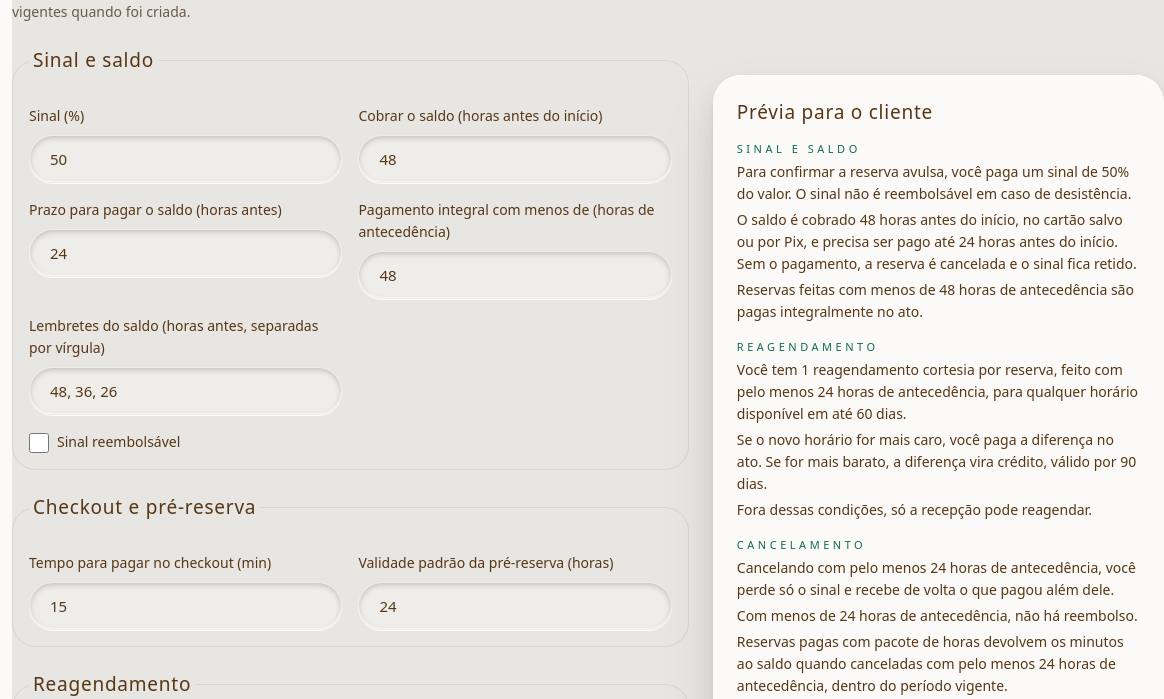
Test: PoliciesPanel (NUC-176) › saves every value and reports the new version
Replace the text in the number field labelled "Sinal (%)" with "30": (186, 159) 29,135 -> 342,183
(page scrolled)
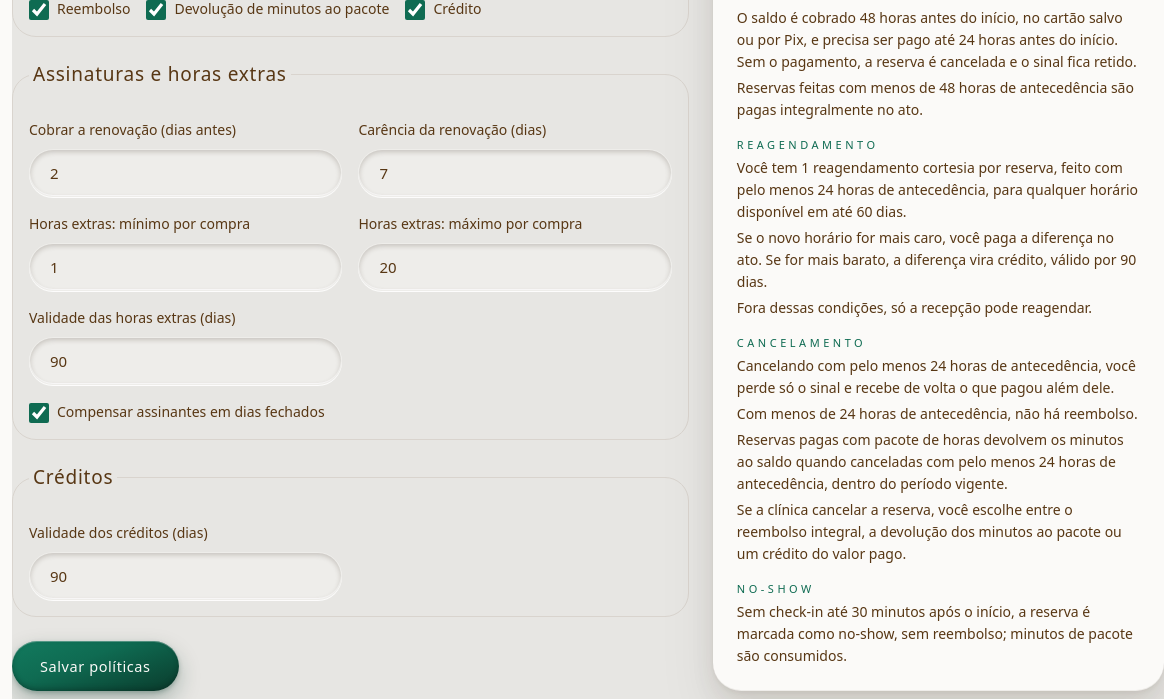
Click the button "Salvar políticas": (95, 666) 12,641 -> 179,691
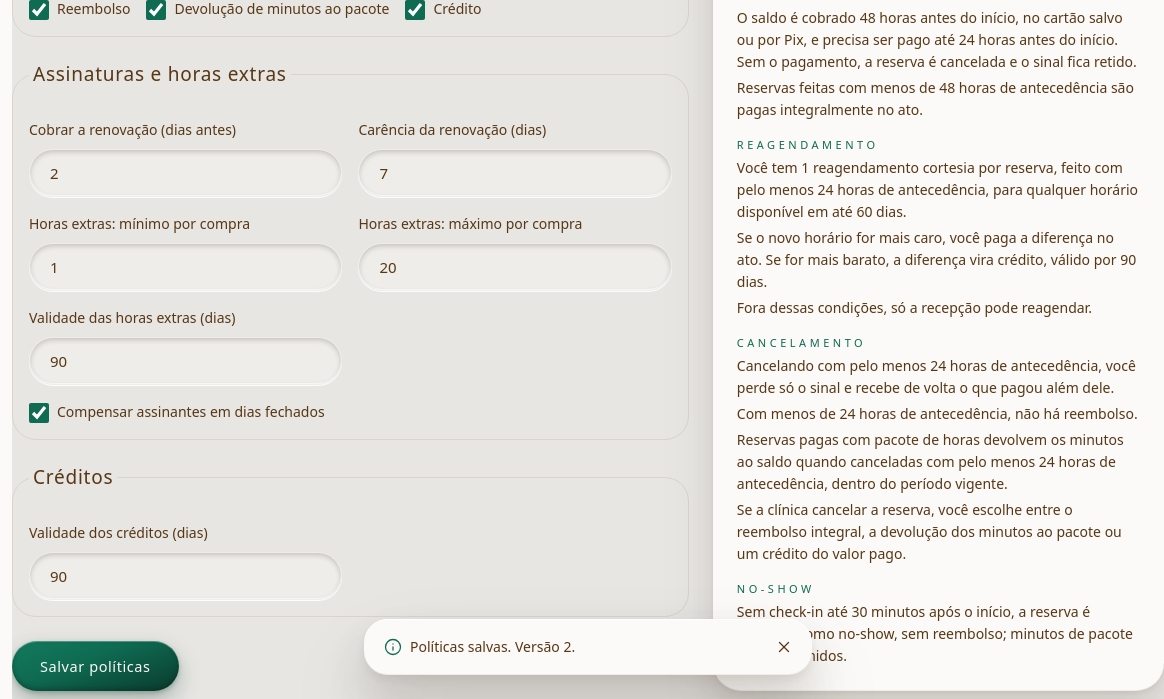
Check: the text "Políticas salvas. Versão 2." is shown, box 410,637 -> 575,656
